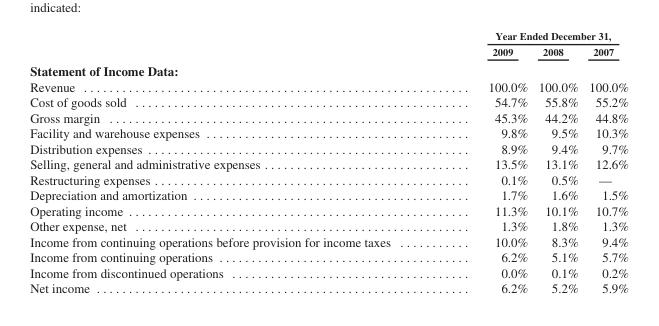table: (29, 29, 628, 295)
table column: (29, 29, 438, 295), (438, 29, 532, 295), (532, 29, 582, 295), (582, 29, 628, 295)
table column header: (29, 29, 628, 60)
table projected row header: (29, 60, 628, 78)
table row: (29, 60, 628, 78), (29, 43, 628, 60), (29, 78, 628, 94), (29, 109, 628, 125), (29, 140, 628, 156), (29, 171, 628, 187), (29, 202, 628, 218), (29, 233, 628, 249), (29, 264, 628, 280), (29, 94, 628, 109), (29, 125, 628, 140), (29, 156, 628, 171), (29, 187, 628, 202), (29, 218, 628, 233), (29, 249, 628, 264), (29, 280, 628, 295), (29, 29, 628, 43)
table spanning cell: (438, 29, 628, 43)
